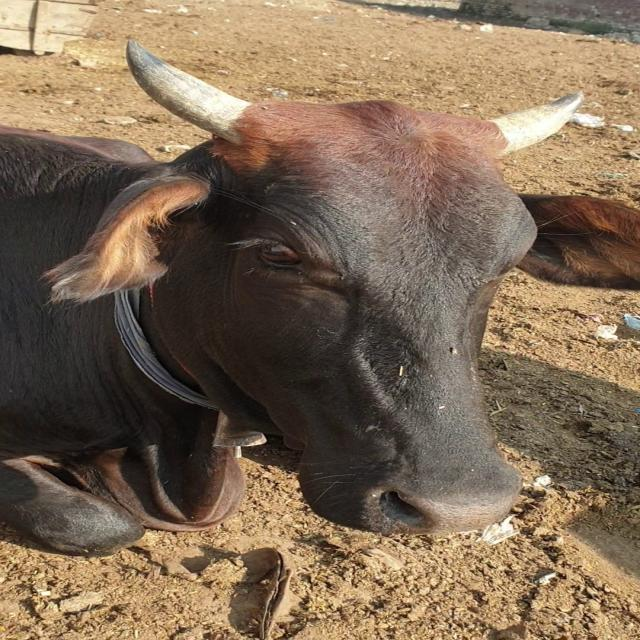cowFace: (170, 98, 582, 530)
